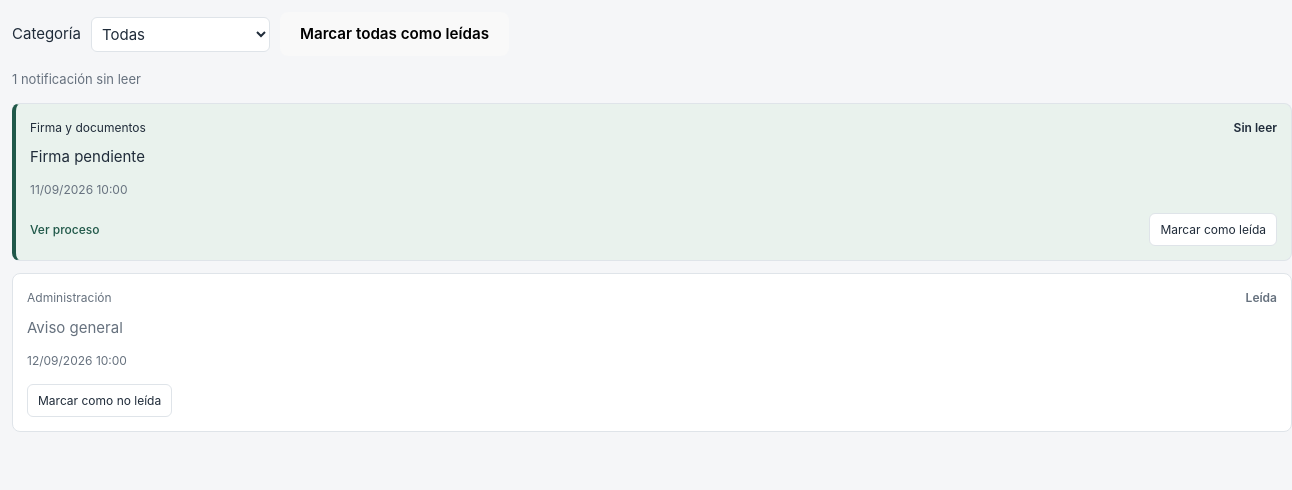
un fallo al guardar conserva el estado y se informa de forma accesible
The image size is (1292, 490).
Expected: the text "Firma pendiente" is shown, [30,147,145,166]
What coordinates should you click on to do the following:
click the button "Marcar como leída"
I would click on:
 (1213, 230)
Its box is [1150,213,1277,246].
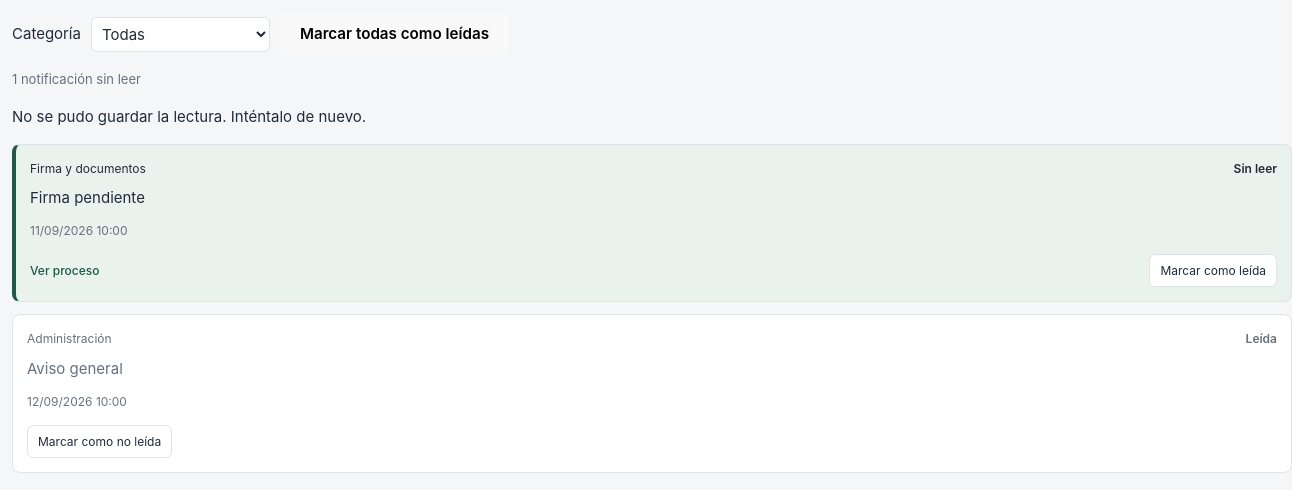
Now the message "No se pudo guardar la lectura. Inténtalo de nuevo." is shown, box [12,107,366,126]
